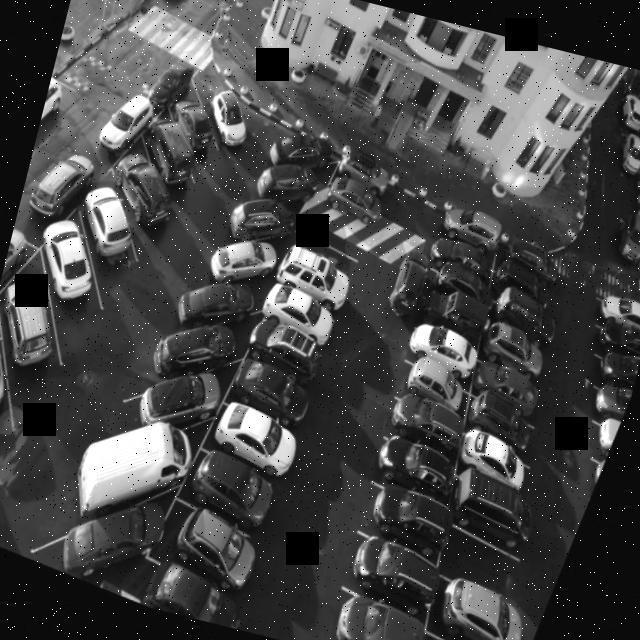car: (60, 389, 211, 535), (39, 476, 164, 598), (121, 338, 236, 456), (20, 222, 123, 351), (0, 262, 80, 423), (140, 294, 250, 405), (65, 176, 164, 296), (94, 138, 187, 258), (153, 498, 261, 589), (334, 529, 444, 617), (169, 254, 269, 350), (178, 446, 286, 532), (352, 481, 457, 567), (200, 396, 305, 480), (133, 557, 248, 629), (220, 354, 318, 433), (0, 313, 47, 477), (366, 431, 462, 508), (130, 110, 210, 202), (424, 574, 534, 640), (12, 157, 91, 248), (204, 220, 292, 300), (242, 312, 334, 384), (315, 586, 433, 640), (256, 276, 343, 346), (189, 66, 265, 146), (86, 84, 154, 171), (222, 188, 302, 260), (382, 392, 468, 458), (449, 476, 529, 546), (404, 322, 488, 388), (390, 358, 478, 419), (448, 432, 534, 494), (160, 90, 234, 160), (276, 245, 362, 305), (262, 123, 340, 186), (252, 153, 325, 220), (460, 394, 540, 454), (468, 356, 546, 416), (420, 290, 497, 350), (32, 67, 81, 159), (424, 262, 494, 316), (430, 234, 502, 286), (439, 208, 508, 258), (480, 322, 549, 372), (0, 229, 33, 331), (489, 264, 556, 314), (486, 293, 552, 341), (501, 234, 564, 284), (589, 345, 640, 399), (587, 320, 640, 371), (589, 289, 640, 339), (588, 374, 634, 428)
free: (434, 530, 528, 599), (288, 228, 364, 280)
